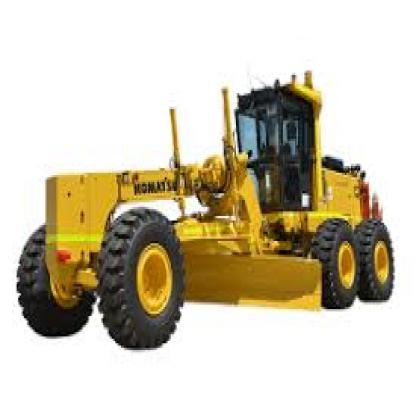bull_dozer/loader/grader: (15, 46, 396, 344)
